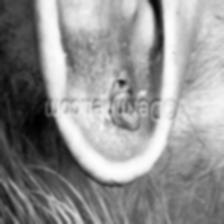Potentially Malignant Skin Tumors: (88, 116, 148, 136)
